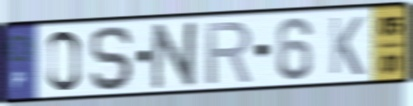0: (46, 28, 82, 93)
6: (274, 15, 315, 83)
K: (328, 14, 366, 77)
N: (148, 18, 202, 92)
R: (204, 19, 255, 87)
S: (88, 24, 137, 93)
